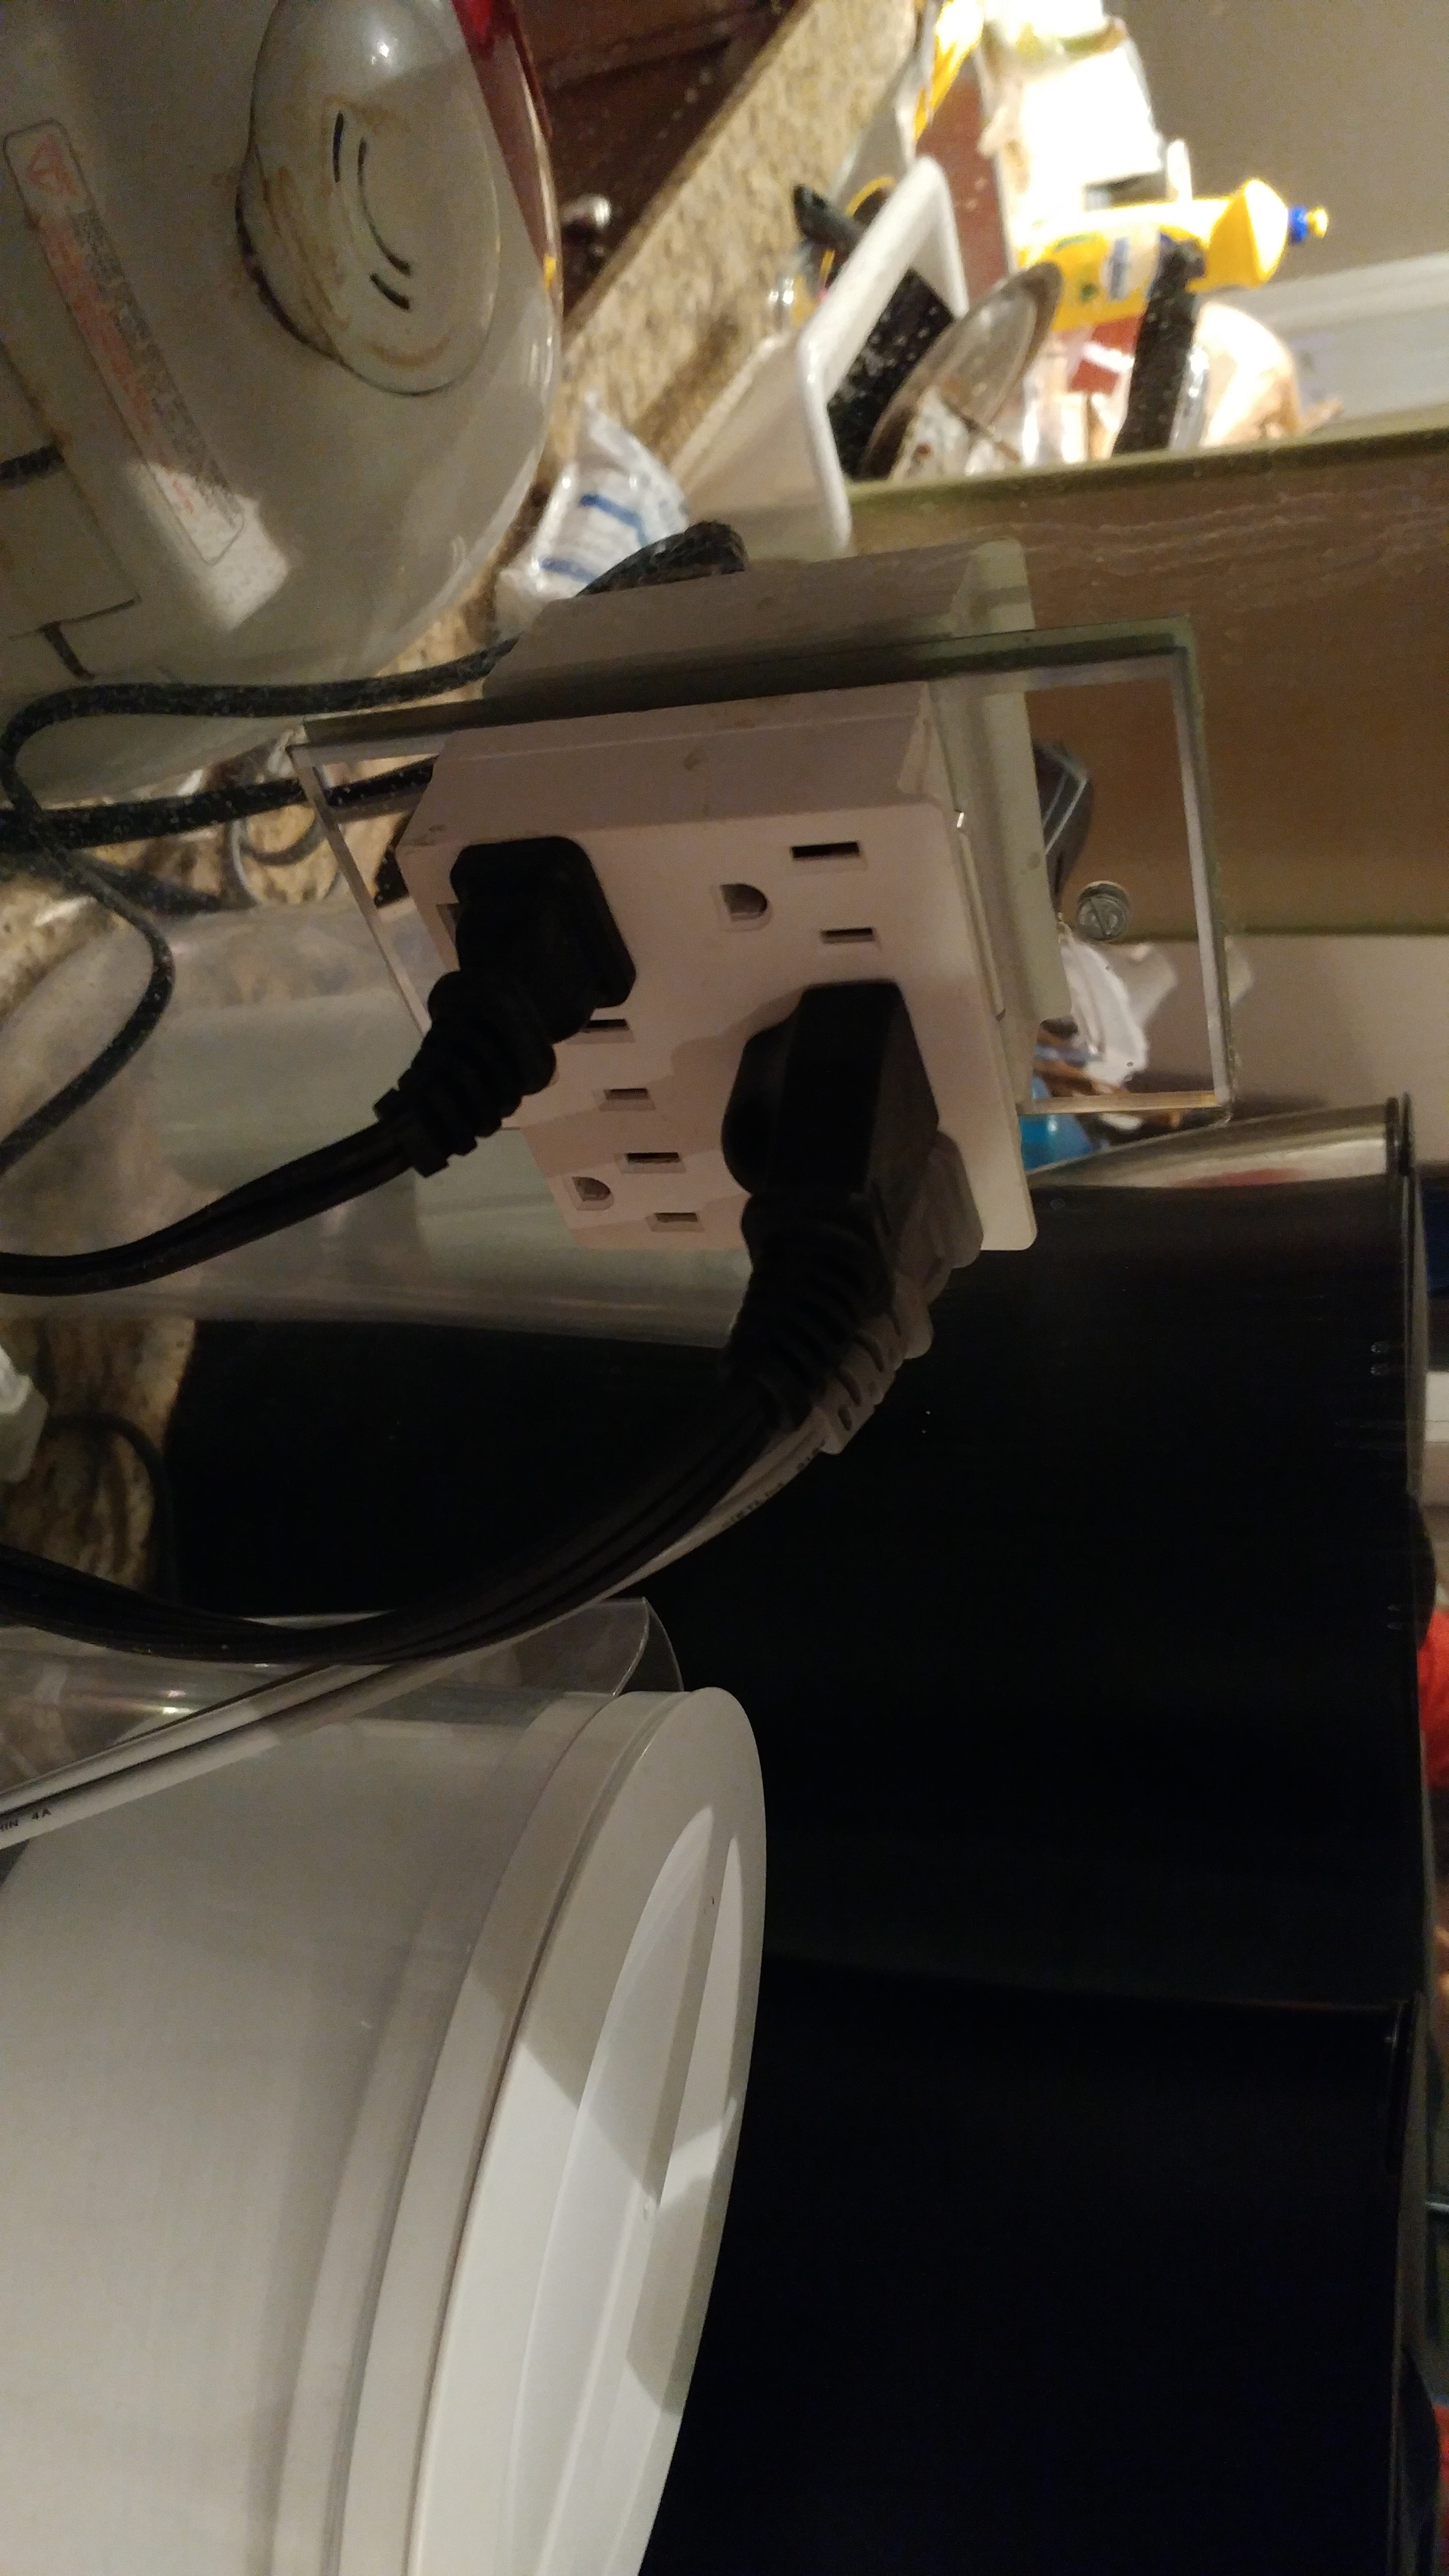outlet: (694, 796, 909, 971), (469, 971, 658, 1127), (543, 1113, 731, 1254)
